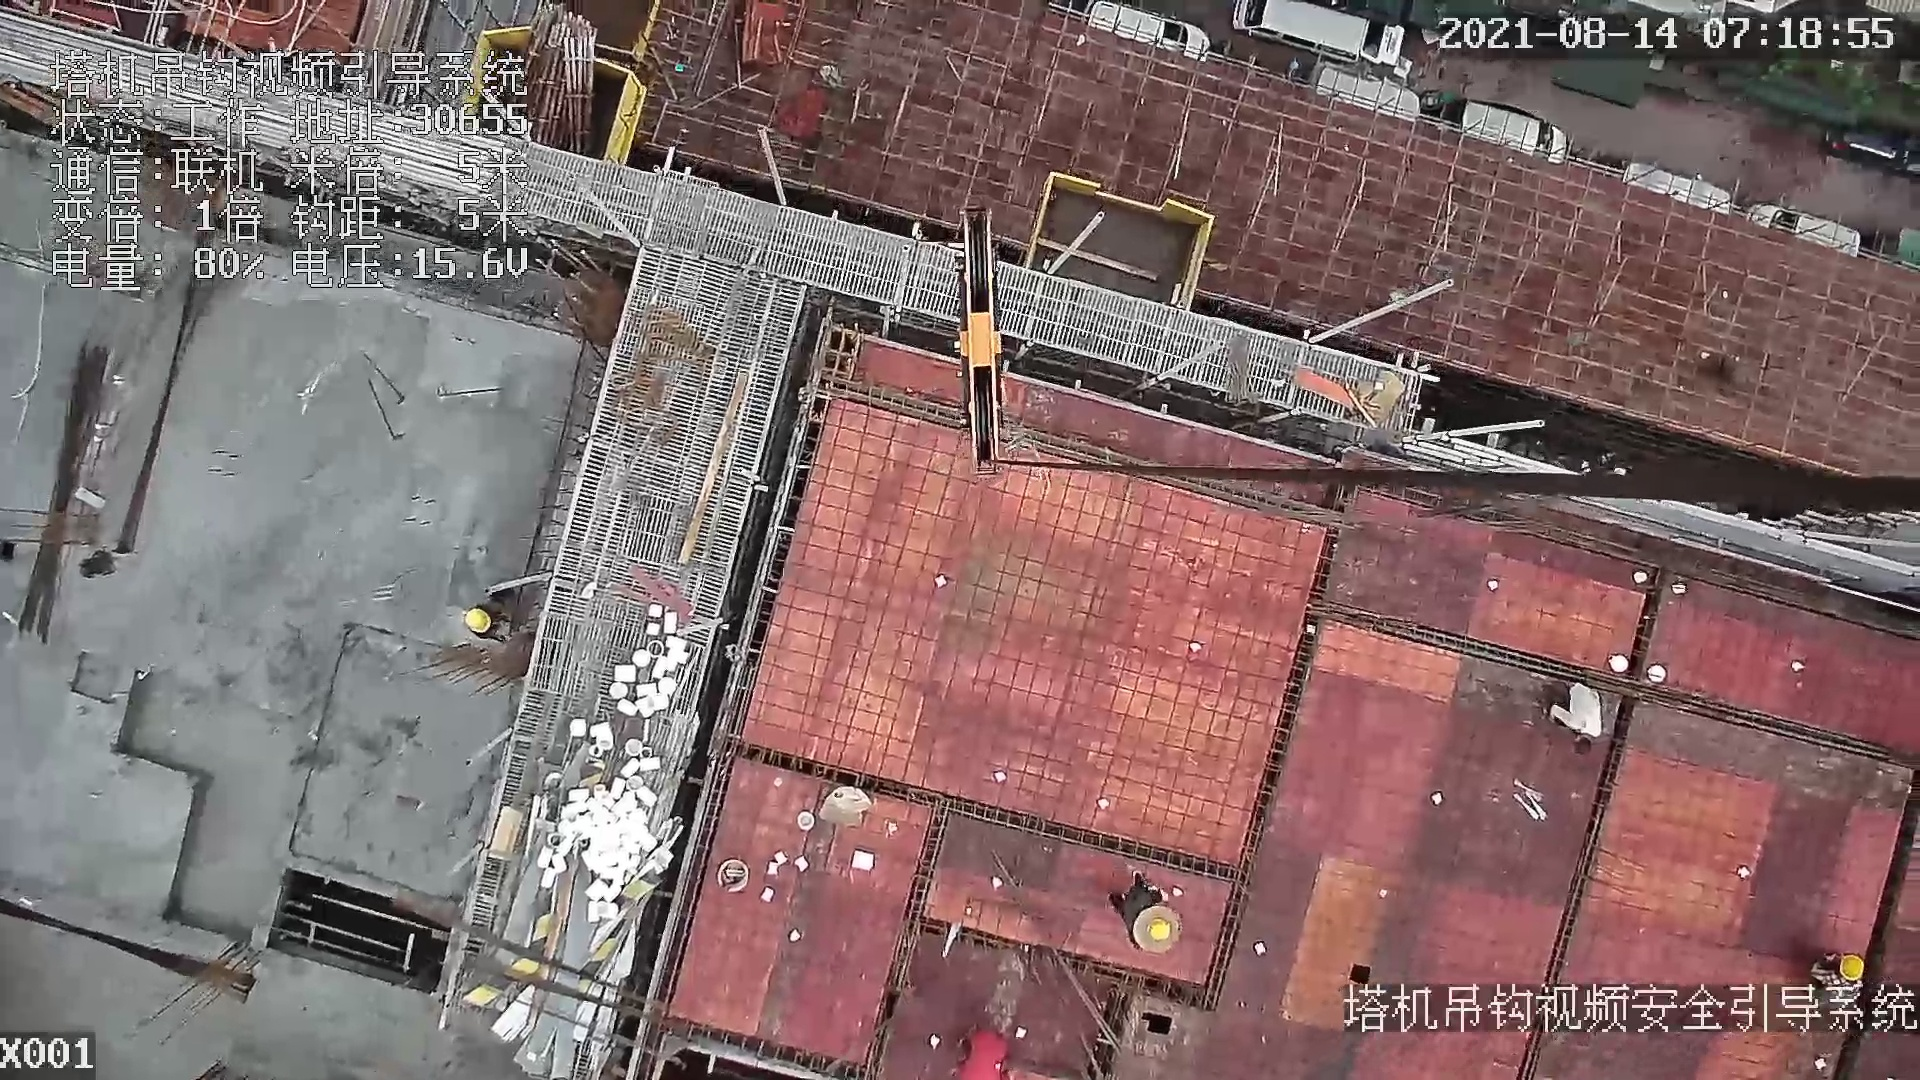helmet: (1141, 919, 1174, 948), (464, 604, 493, 632), (1834, 956, 1864, 983)
hook: (944, 200, 1024, 489)
person: (1115, 876, 1181, 963), (465, 595, 518, 632)
